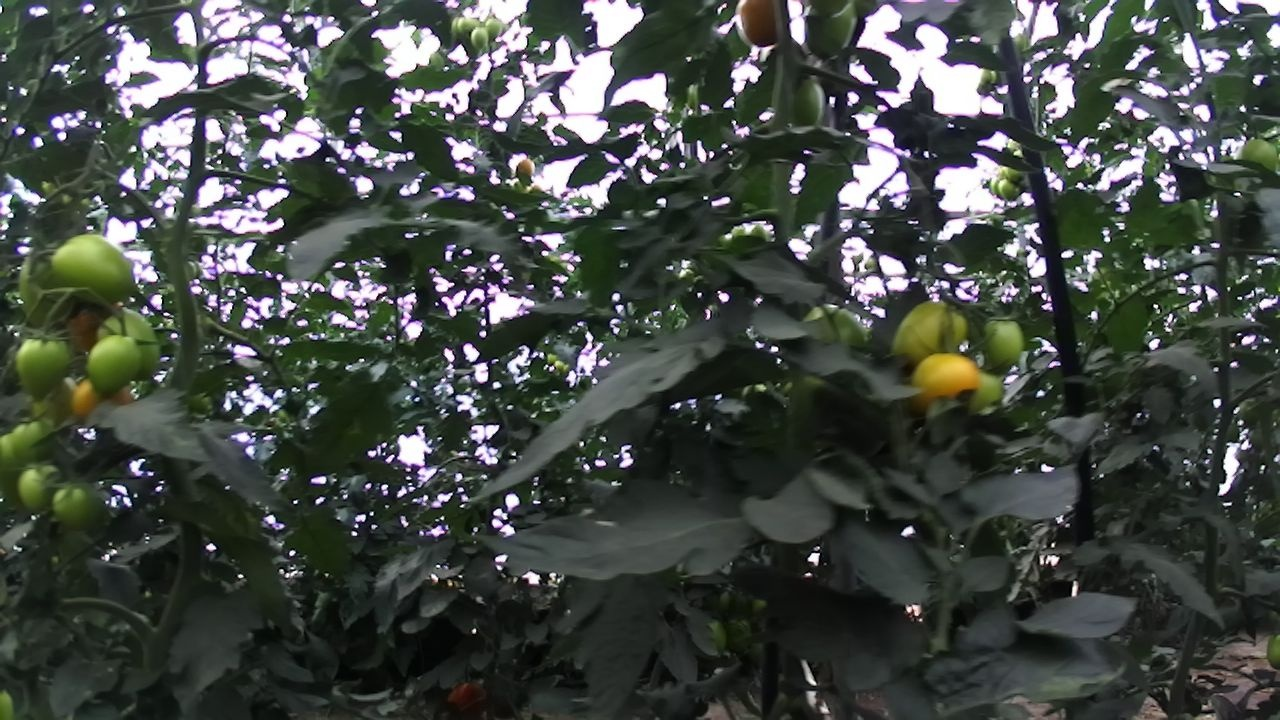tomato: (878, 281, 981, 378), (41, 224, 147, 316), (787, 293, 884, 386), (88, 302, 173, 390), (900, 342, 986, 424), (7, 322, 84, 411), (74, 331, 157, 403), (794, 0, 870, 74), (976, 307, 1038, 382), (67, 371, 142, 429), (45, 475, 111, 540), (9, 455, 73, 518), (728, 0, 798, 56), (4, 408, 64, 470), (782, 71, 835, 132), (1227, 130, 1280, 187), (440, 672, 496, 720), (511, 152, 542, 184), (467, 25, 493, 53), (995, 178, 1020, 203), (454, 13, 478, 38), (482, 16, 503, 42)
